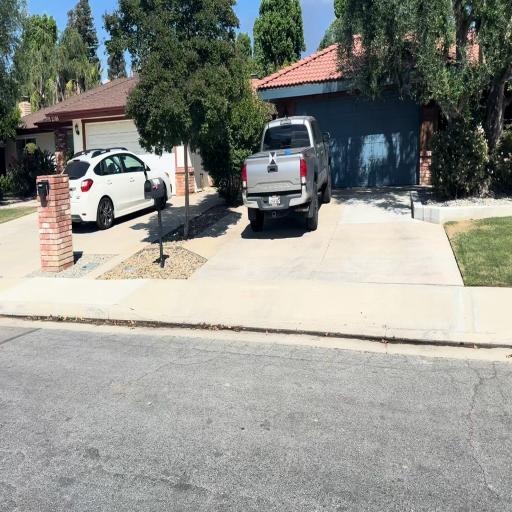target1: (270, 152, 276, 165)
